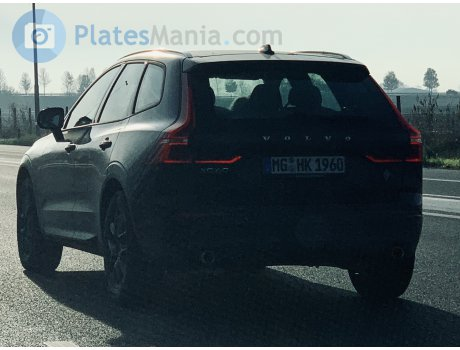License Plates: (275, 158, 343, 173)
